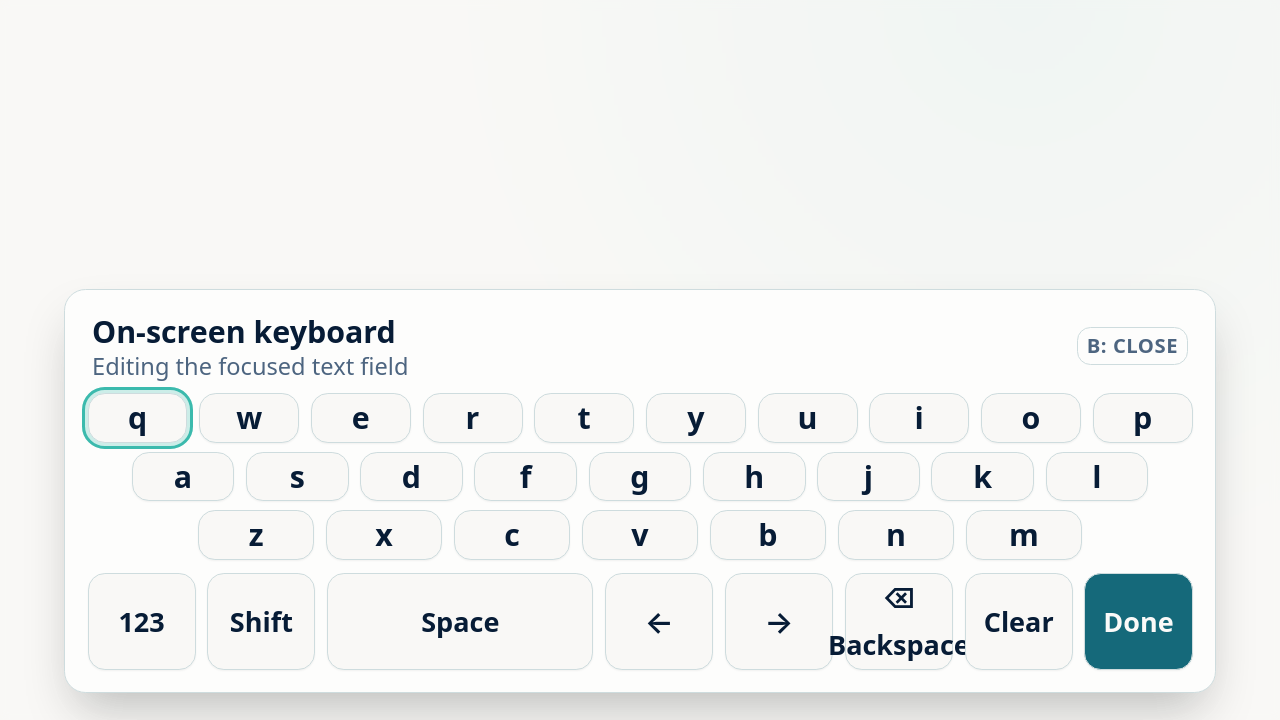
Test: OnScreenKeyboard › supports uppercase and symbols, and physical typing while the key buttons own focus
This screenshot has width=1280, height=720.
Click the button "Shift": (261, 621) [207,573,315,670]
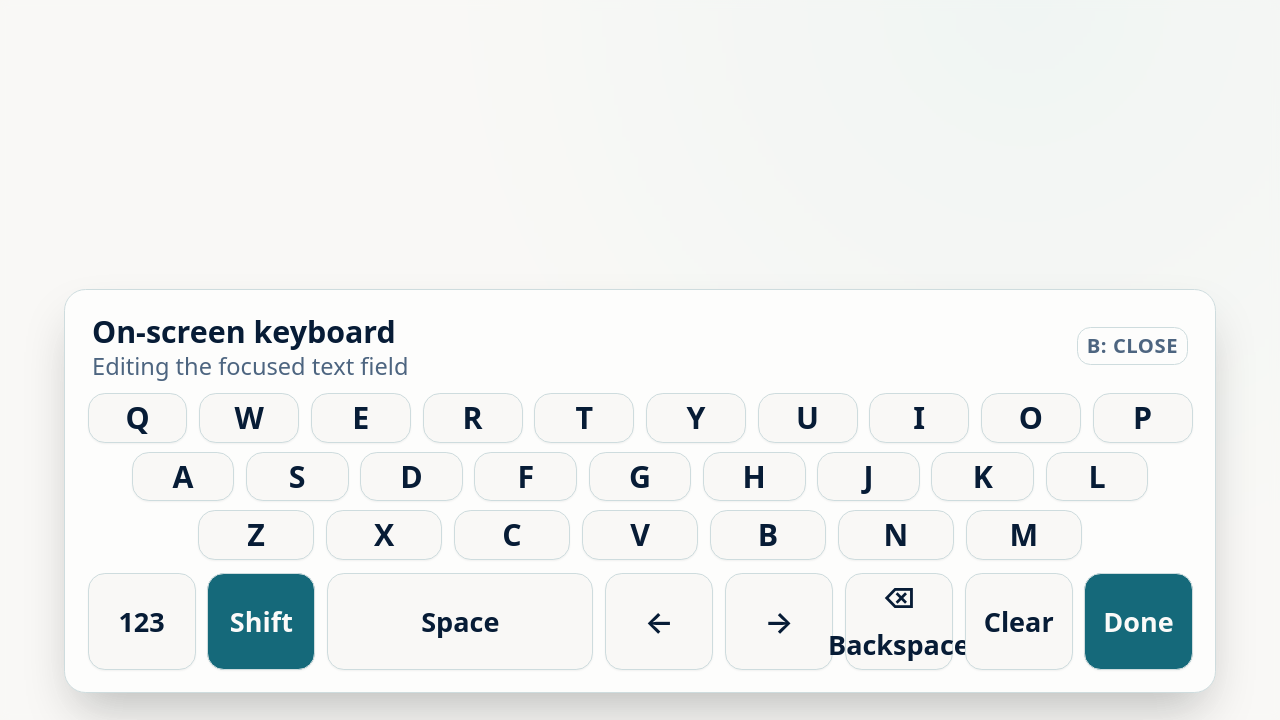
Click the button named "Type A": (183, 476) [132,452,234,501]
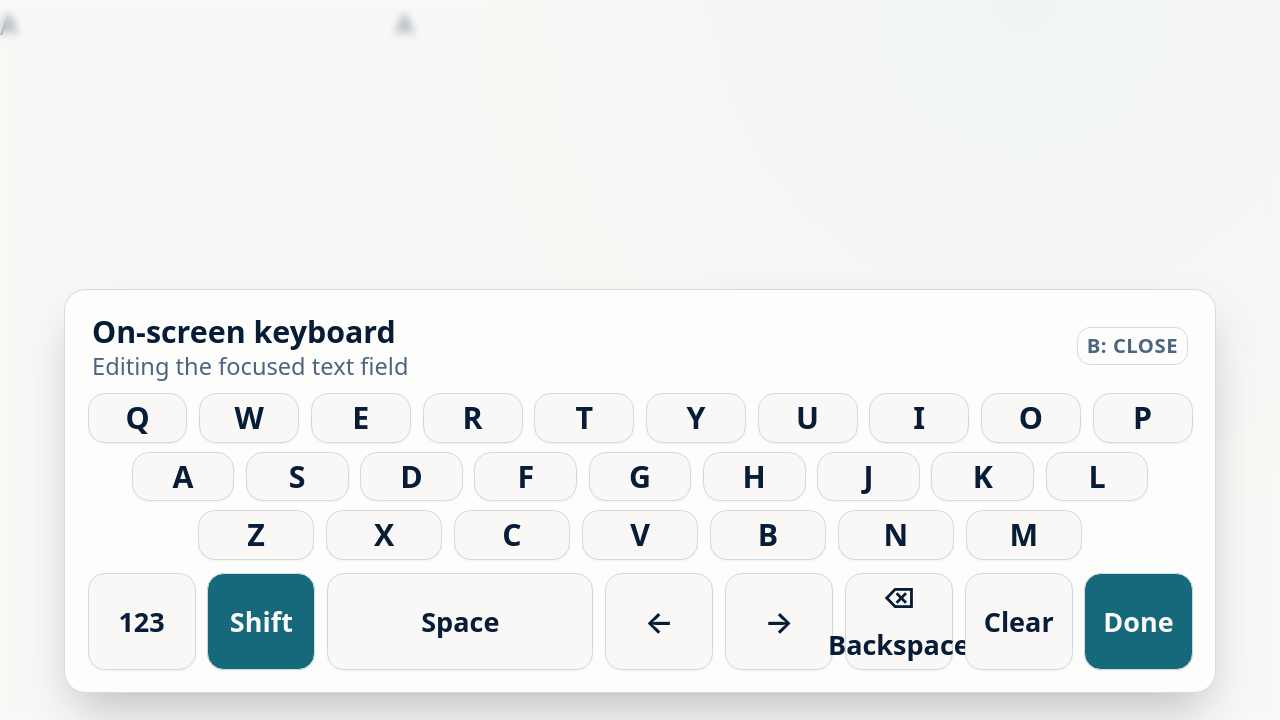
Click the button named "Show numbers and symbols": (142, 621) [88,573,196,670]
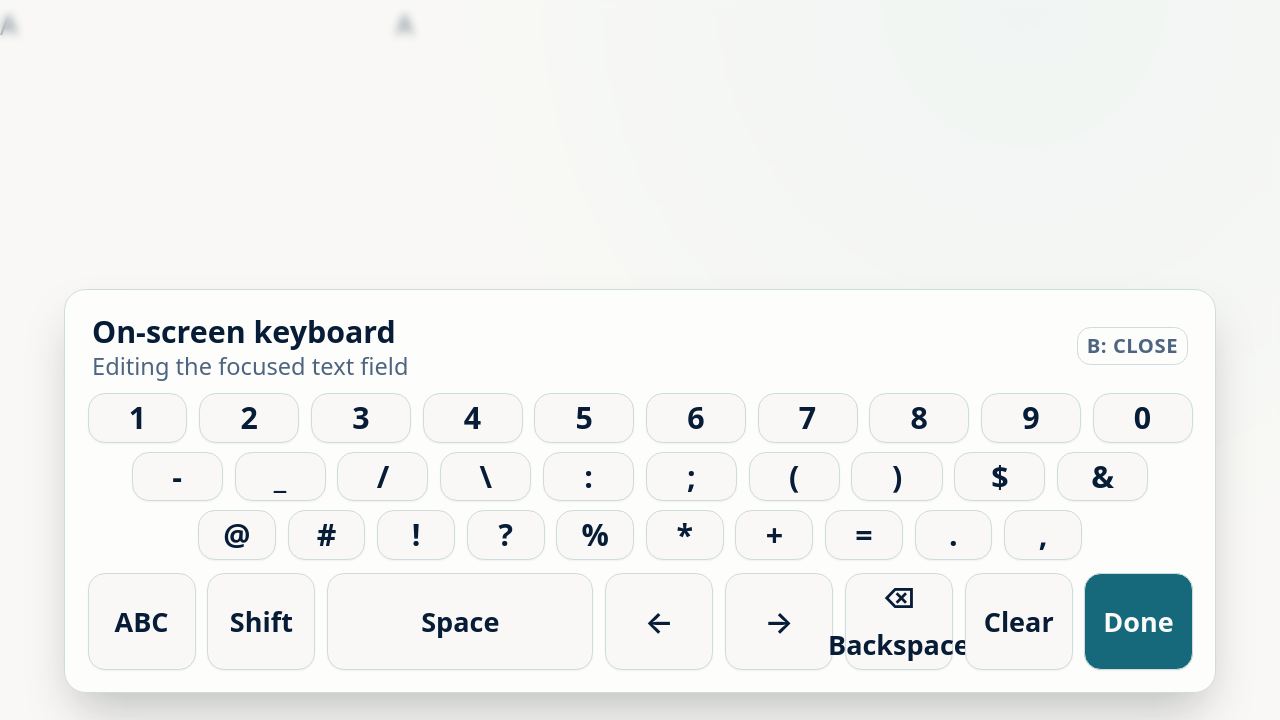
Click the button named "Type 1": (138, 418) [88,393,188,442]
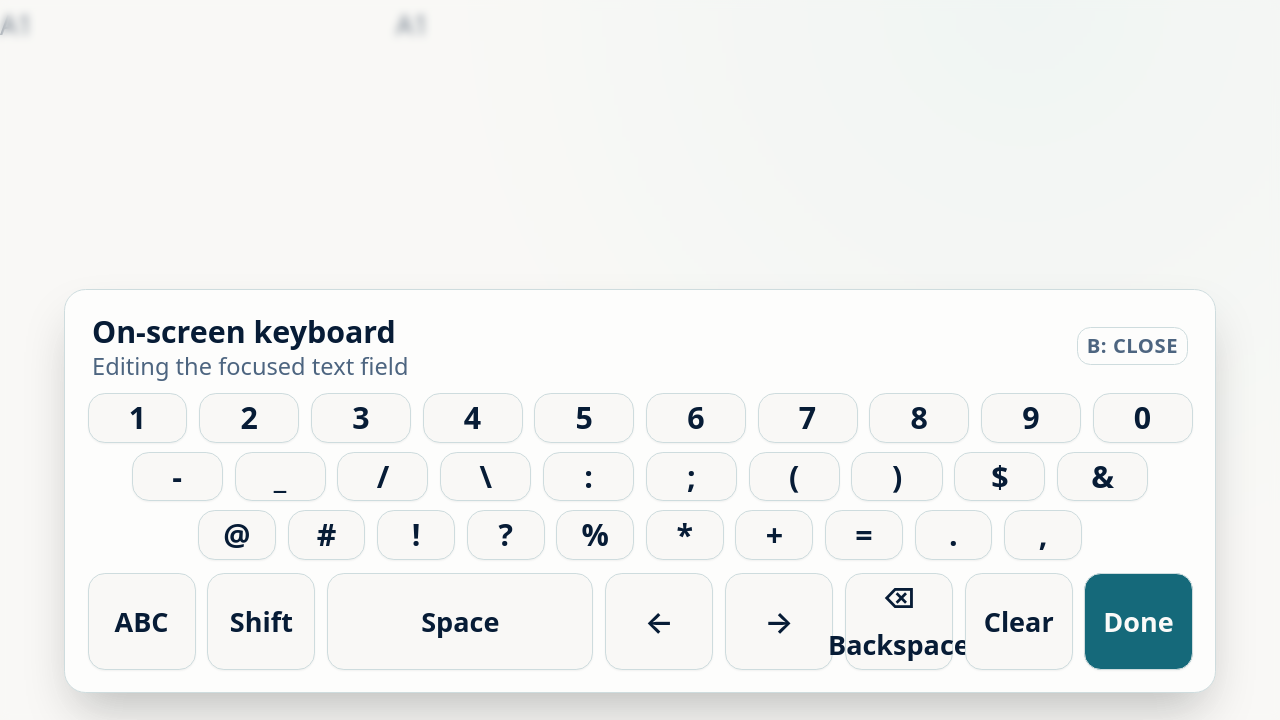
Press z
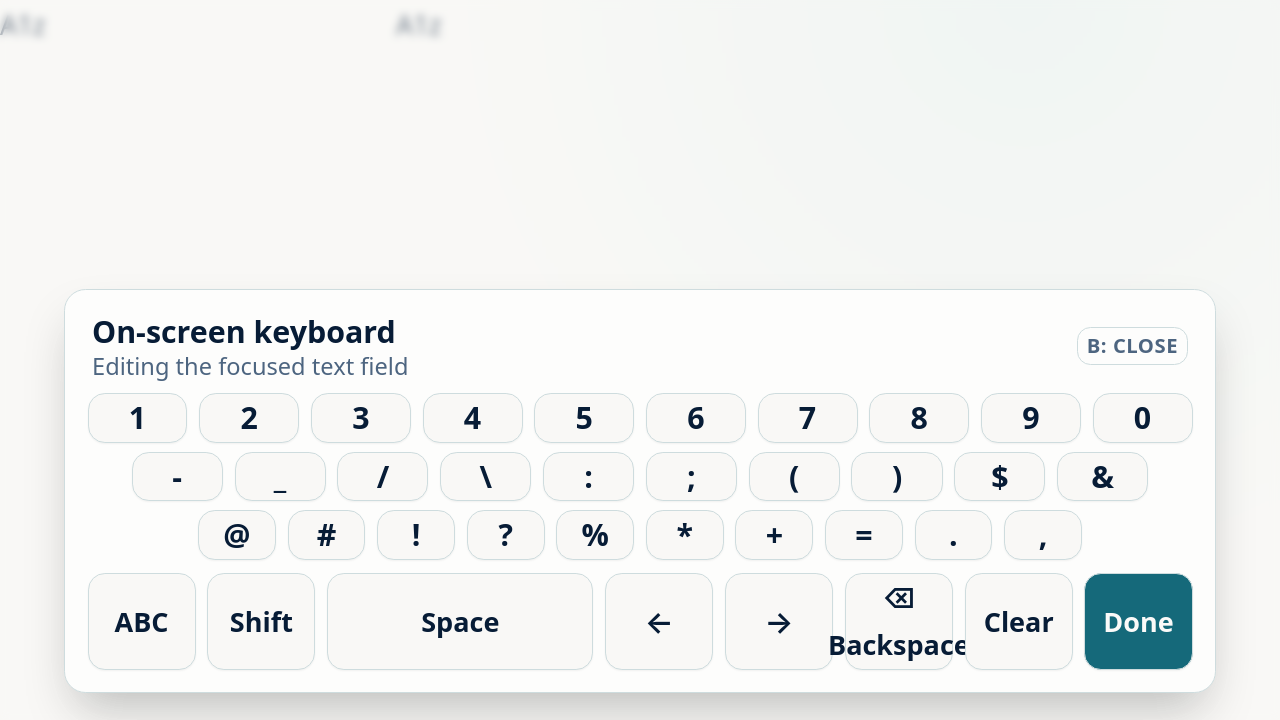
Expected: the message reads "A1z", [396,6,441,43]
